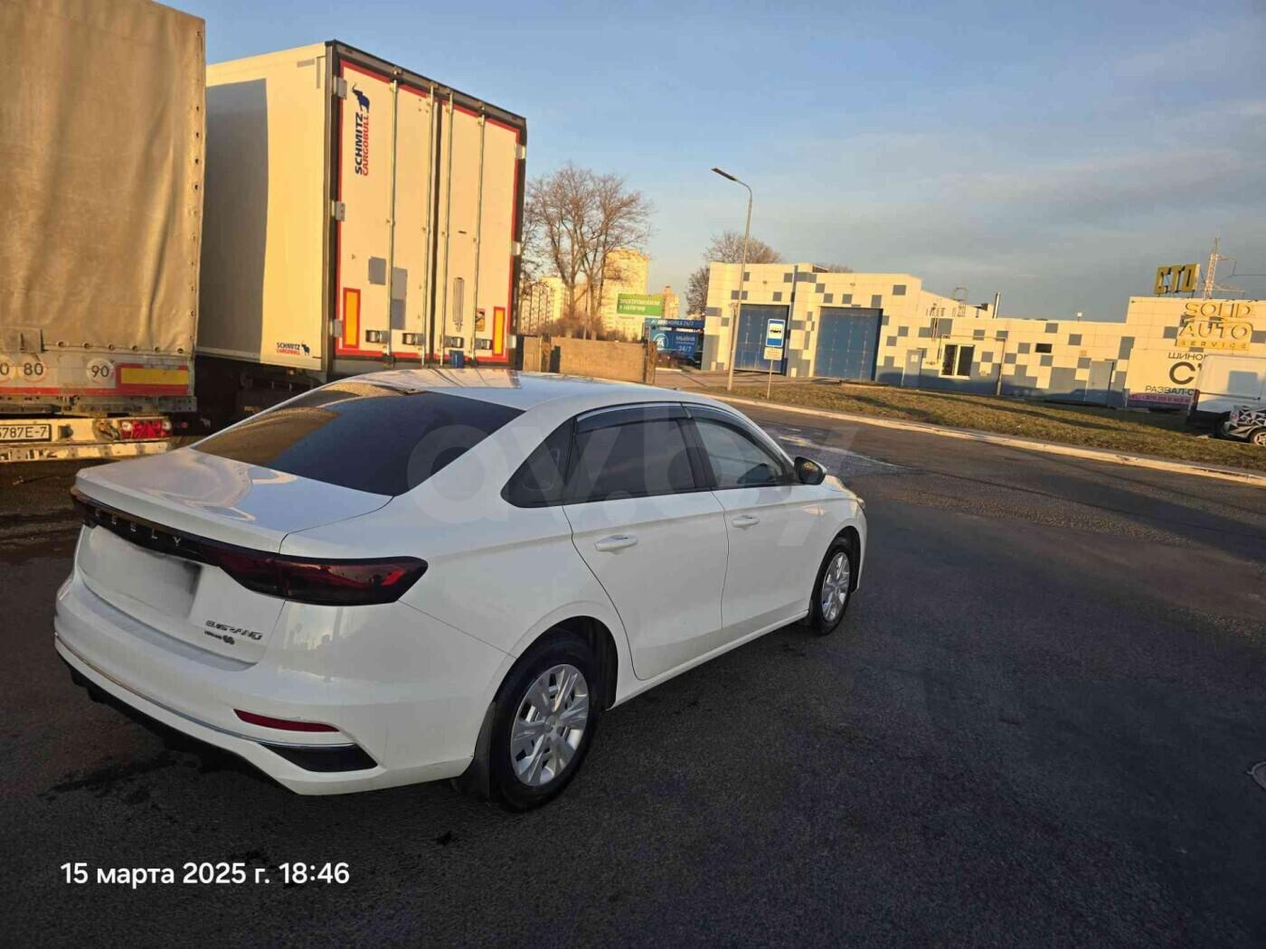Emgrand_2021: (47, 368, 876, 811)
